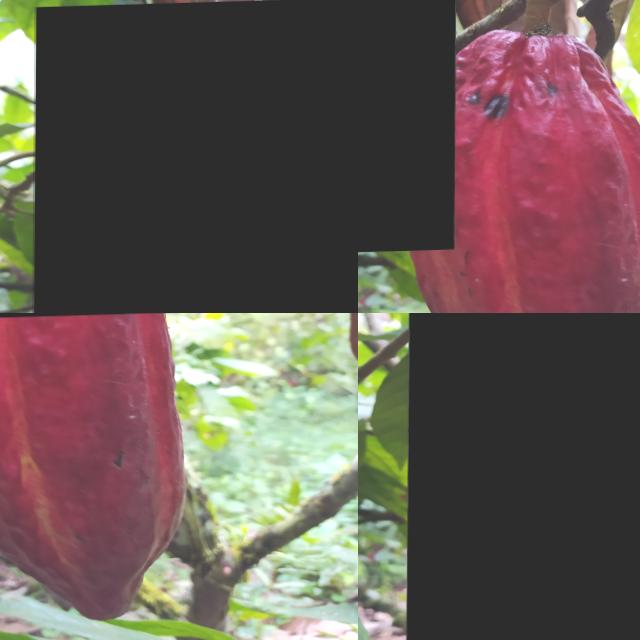Fitoftora: (32, 0, 358, 313), (406, 313, 640, 640)
Sana: (358, 0, 456, 254), (482, 280, 495, 305)
